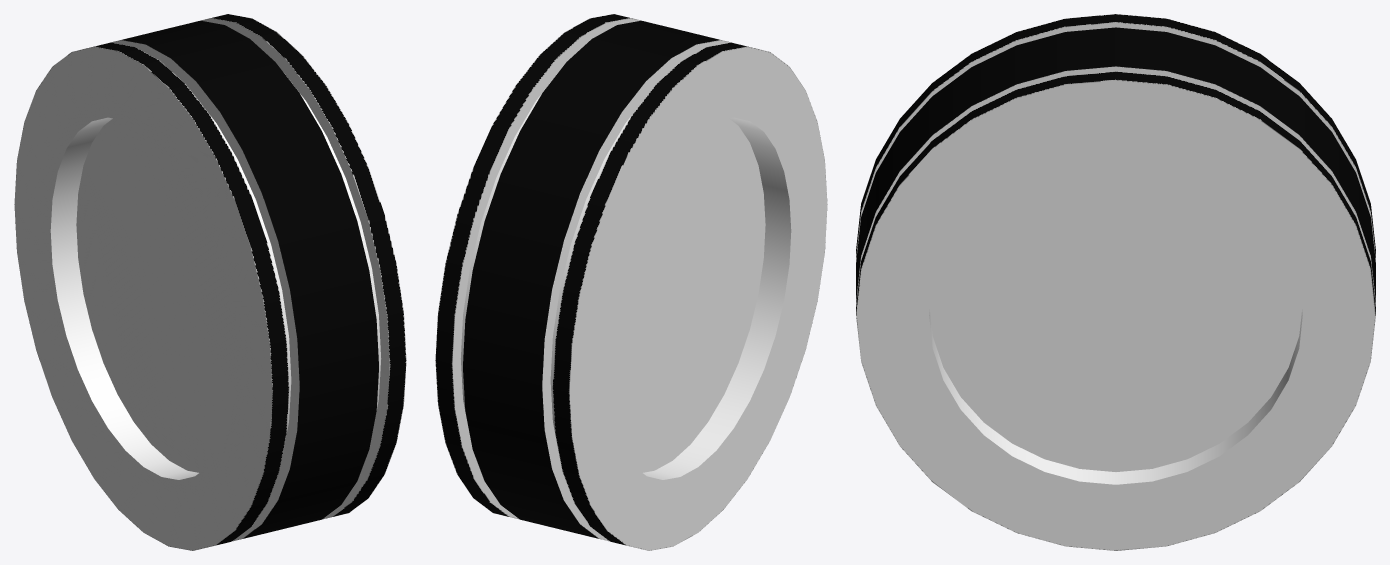
Rendered from CenterCylinder.glb.
3 views of the same model, side by side, from view 1: azimuth 30°, elevation 25°; view 2: azimuth 150°, elevation 25°; view 3: azimuth 270°, elevation 25° (orthographic).
Visible parts, largest first — view 1: Cylinder; view 2: Cylinder; view 3: Cylinder.
Boxes of the visible parts, bbox=[...] form: Cylinder: bbox=[14, 14, 406, 550]; Cylinder: bbox=[435, 14, 827, 550]; Cylinder: bbox=[856, 14, 1375, 550].
Bounding box in the file's own units: 0.6 × 2 × 2.
Materials: 1 (1 with a texture image).
